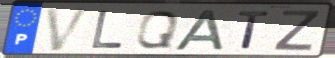A: (171, 8, 227, 52)
L: (89, 9, 126, 50)
Q: (133, 9, 182, 50)
T: (235, 10, 272, 51)
V: (43, 6, 93, 52)
Z: (271, 9, 323, 52)
